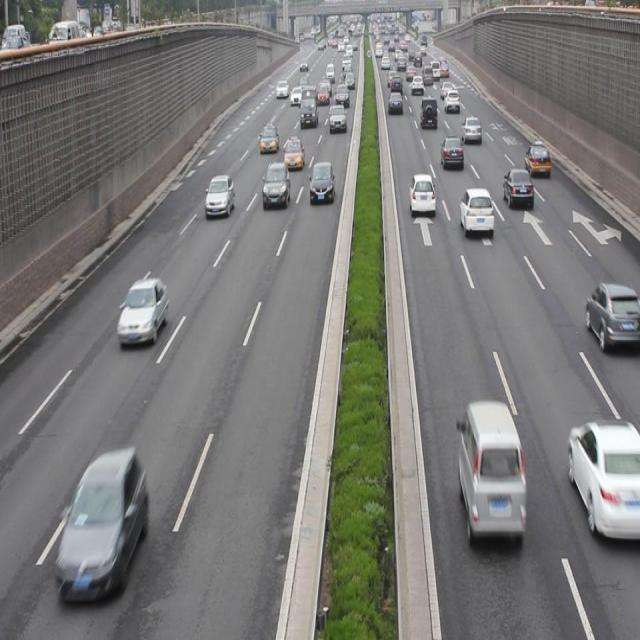car: (55, 444, 149, 604), (566, 418, 640, 538), (584, 281, 640, 348), (117, 276, 168, 346), (459, 187, 493, 234), (204, 172, 234, 216), (262, 162, 290, 208), (502, 167, 532, 209), (408, 172, 435, 213), (308, 160, 333, 204), (523, 142, 551, 177), (439, 133, 463, 170), (282, 137, 304, 172), (418, 94, 438, 132), (460, 114, 480, 146), (259, 123, 278, 152), (329, 103, 346, 132)
truck: (455, 399, 525, 536)
